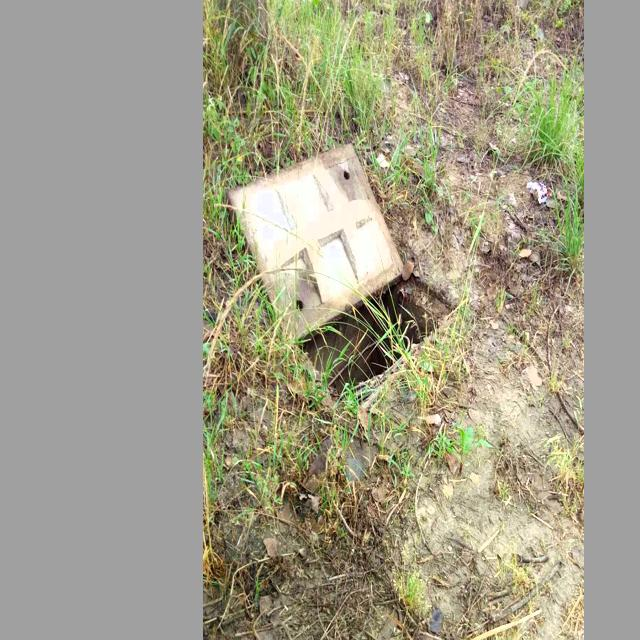uncovered: (228, 144, 460, 407)
